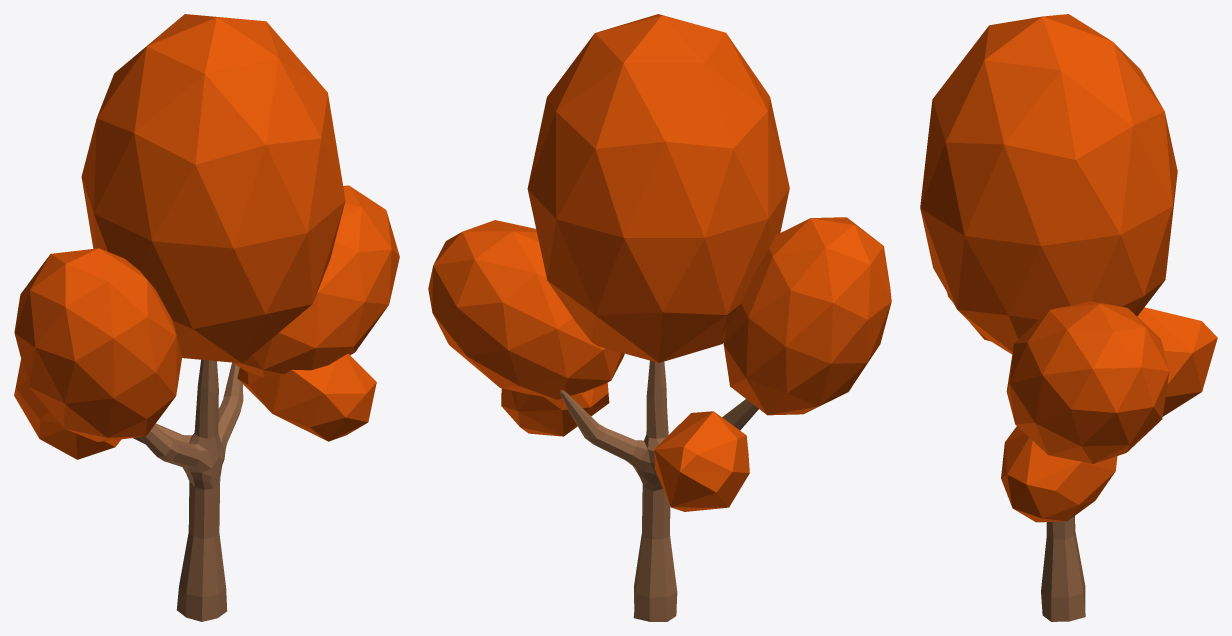
Rendered from tree-autumn-complete-10-002.glb.
The picture shows the model from 3 angles, left to right: view 1: azimuth 30°, elevation 25°; view 2: azimuth 150°, elevation 25°; view 3: azimuth 270°, elevation 25°; orthographic projection.
Visible parts, largest first — view 1: TREE 10.003_383, TREE 10.002_420; view 2: TREE 10.003_383, TREE 10.002_420; view 3: TREE 10.003_383, TREE 10.002_420.
Part boxes in pixels (x1,y1,x2,y2): TREE 10.003_383: (14,14,399,459); TREE 10.002_420: (133,359,243,621); TREE 10.003_383: (428,14,891,511); TREE 10.002_420: (559,360,758,621); TREE 10.003_383: (920,14,1217,522); TREE 10.002_420: (1041,516,1085,621).
Size of the model in its own units: 1.19 by 1.67 by 0.7525.
